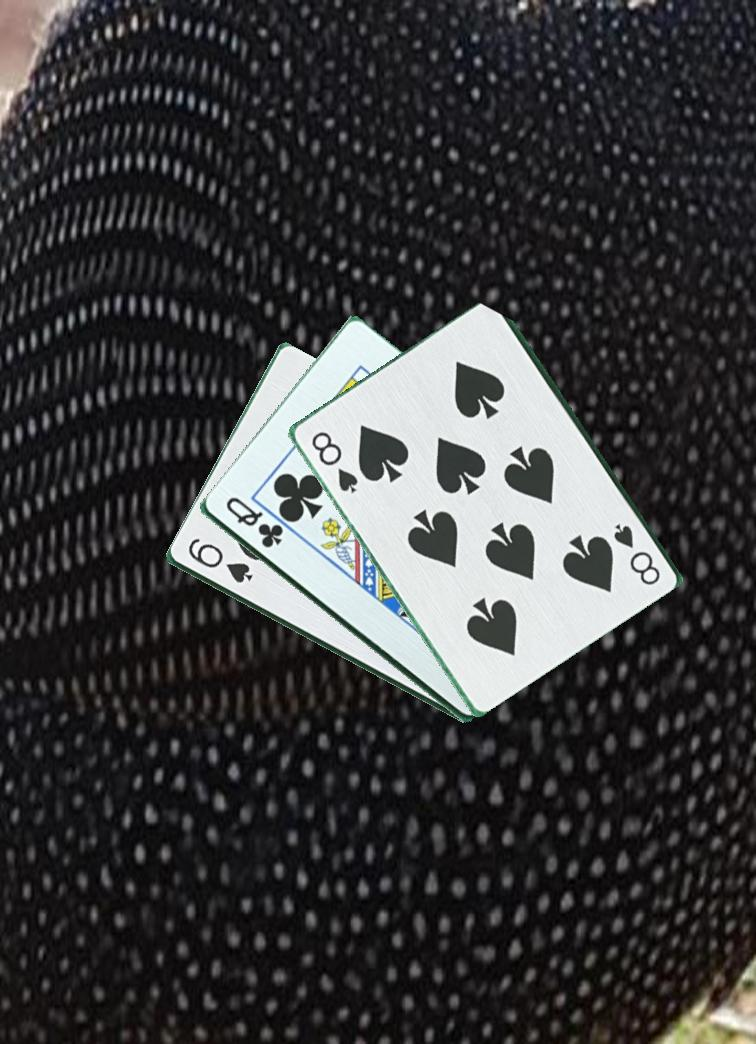6s: (184, 535, 256, 587)
8s: (307, 416, 361, 496), (609, 517, 663, 588)
qc: (221, 493, 285, 551)
